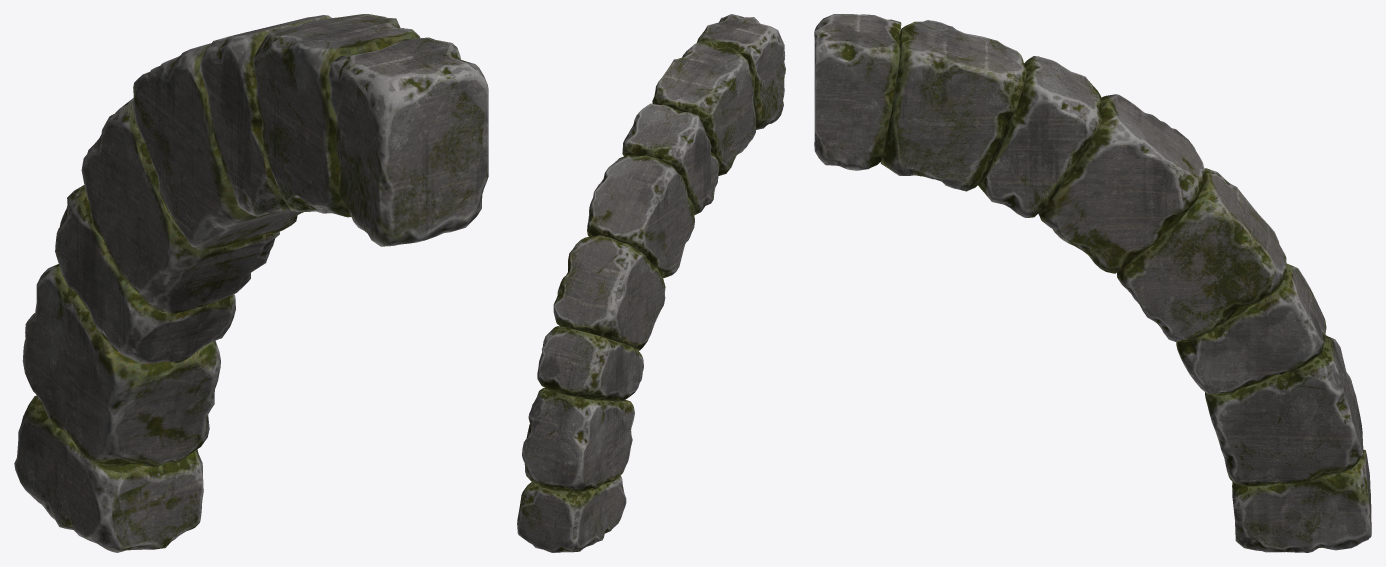
Rendered from SM_Arch_A.fbx.
3 views of the same model, side by side, from view 1: azimuth 30°, elevation 25°; view 2: azimuth 150°, elevation 25°; view 3: azimuth 270°, elevation 25° (orthographic). The views are drawn at different scales.
Visible parts, largest first — view 1: SM_Arch_A_LOD0; view 2: SM_Arch_A_LOD0; view 3: SM_Arch_A_LOD0.
Boxes of the visible parts, <box> form: SM_Arch_A_LOD0: <box>14,14,488,552</box>; SM_Arch_A_LOD0: <box>517,14,785,552</box>; SM_Arch_A_LOD0: <box>814,14,1371,552</box>.
Size of the model in its own units: 103 by 613 by 619.
